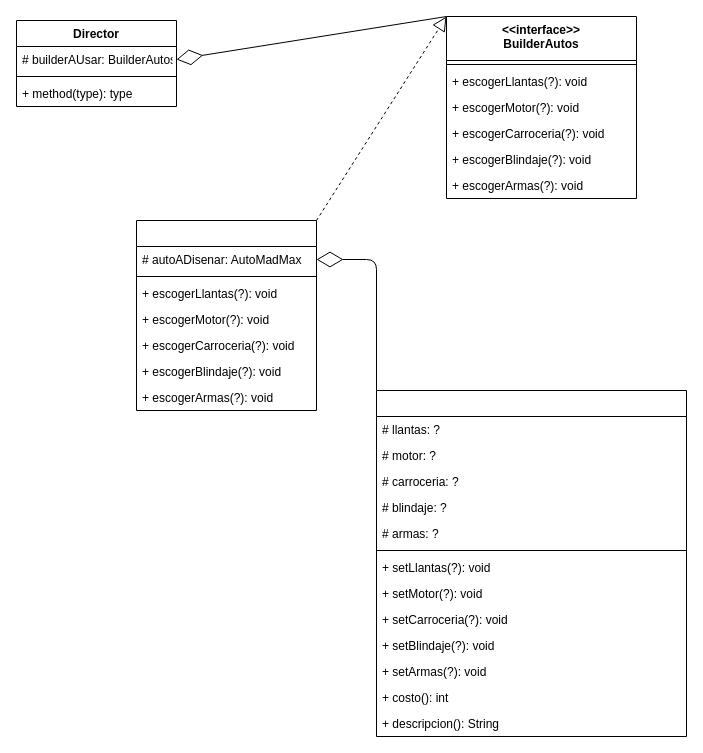
The diagram is 703 pixels wide and 753 high, and some of its shapes have lost their labels. Here are the shapes that lost their labels. From the top down, the box of each, then its label:
(136, 220, 316, 410): BuilderAutosMadMax
(376, 390, 686, 736): AutoMadMax
